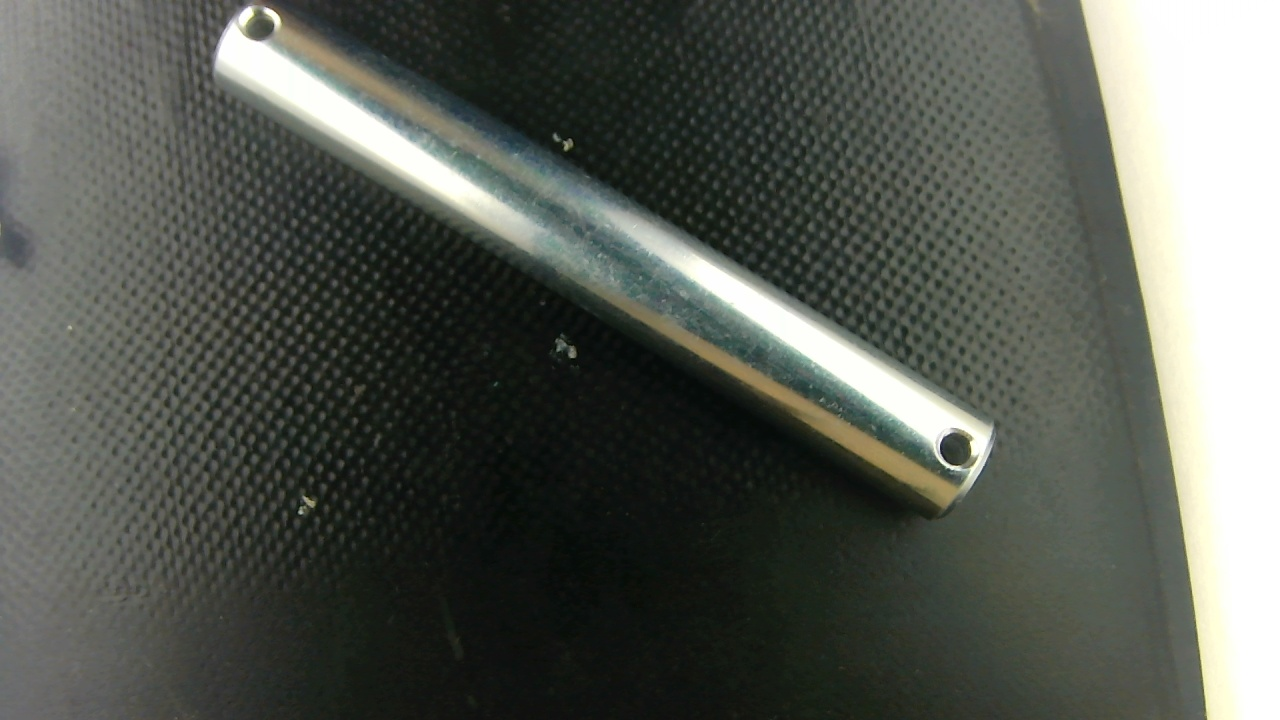Okay_Pin: (215, 3, 992, 517)
